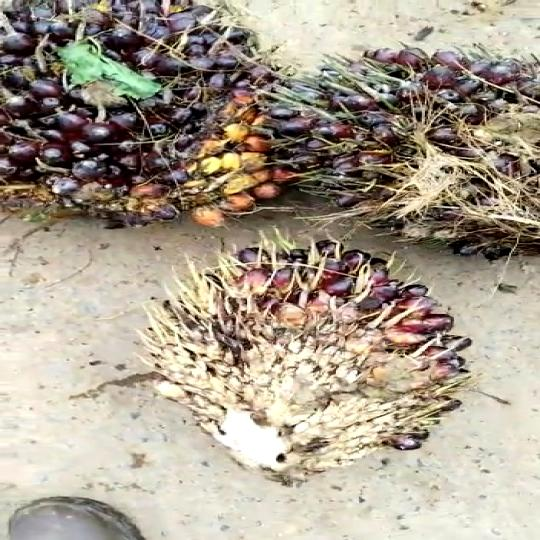kurang masak: (154, 240, 477, 488), (1, 0, 279, 240), (270, 41, 540, 256)
